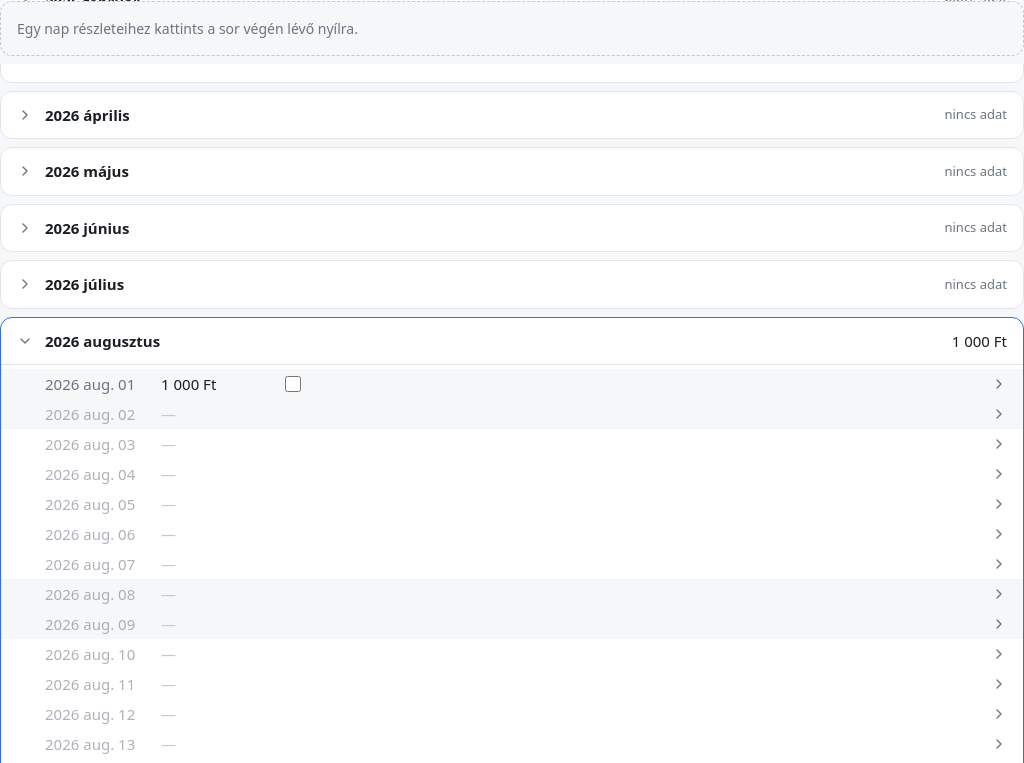
it: HomeComponent › should show the day details beside the list, not in a modal
(page scrolled)
Step 1. Click the 1st button with class "details" → (999, 384), box [987,372,1011,396]
(page scrolled)
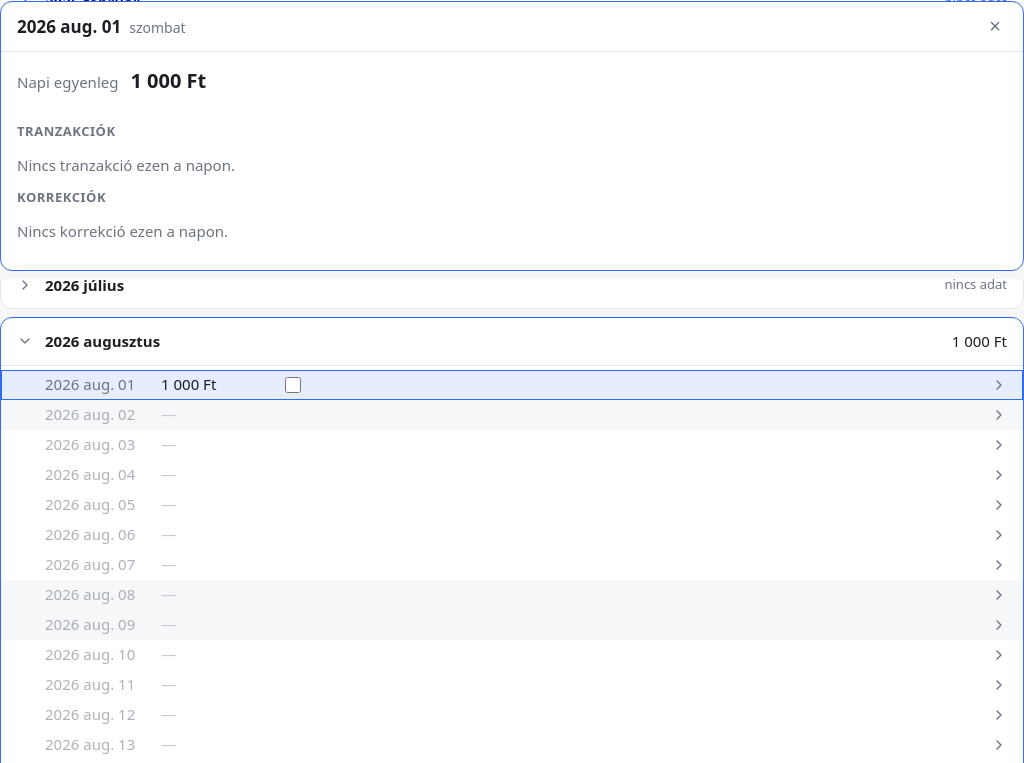
Check: the element with class "day-panel" is shown, box [0,0,1023,270]
